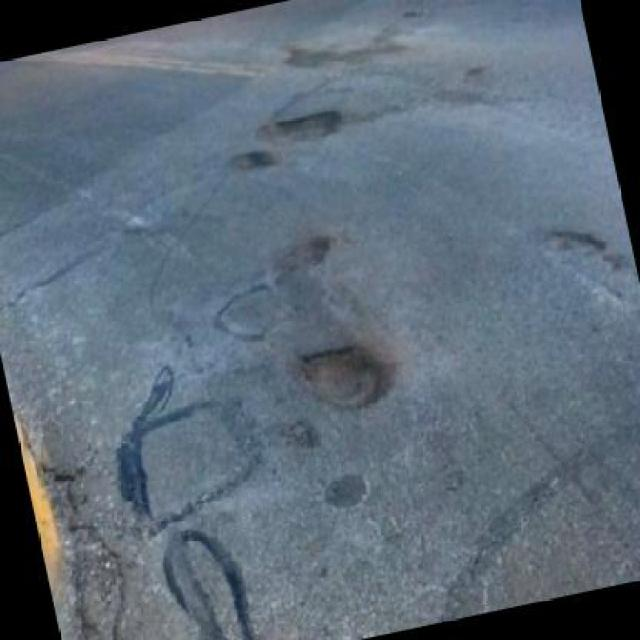pothole: (29, 454, 148, 638), (287, 331, 396, 420), (254, 98, 346, 152), (538, 214, 608, 272), (228, 140, 280, 177)
